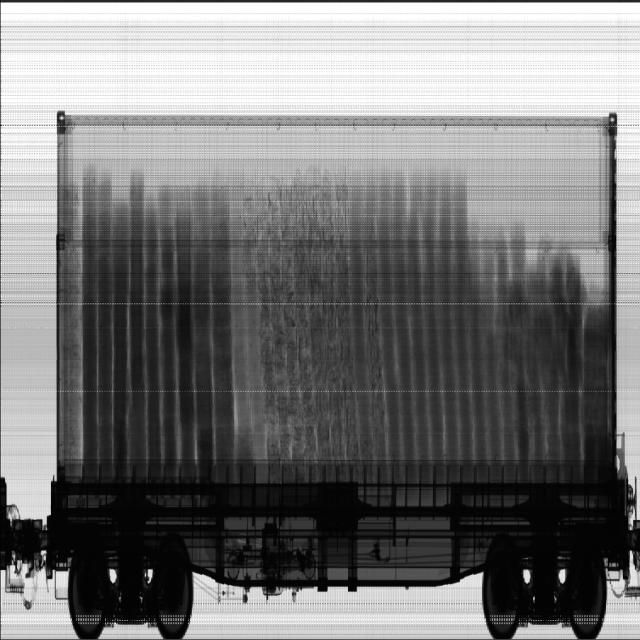textiles: (374, 171, 606, 458), (62, 165, 264, 462)
